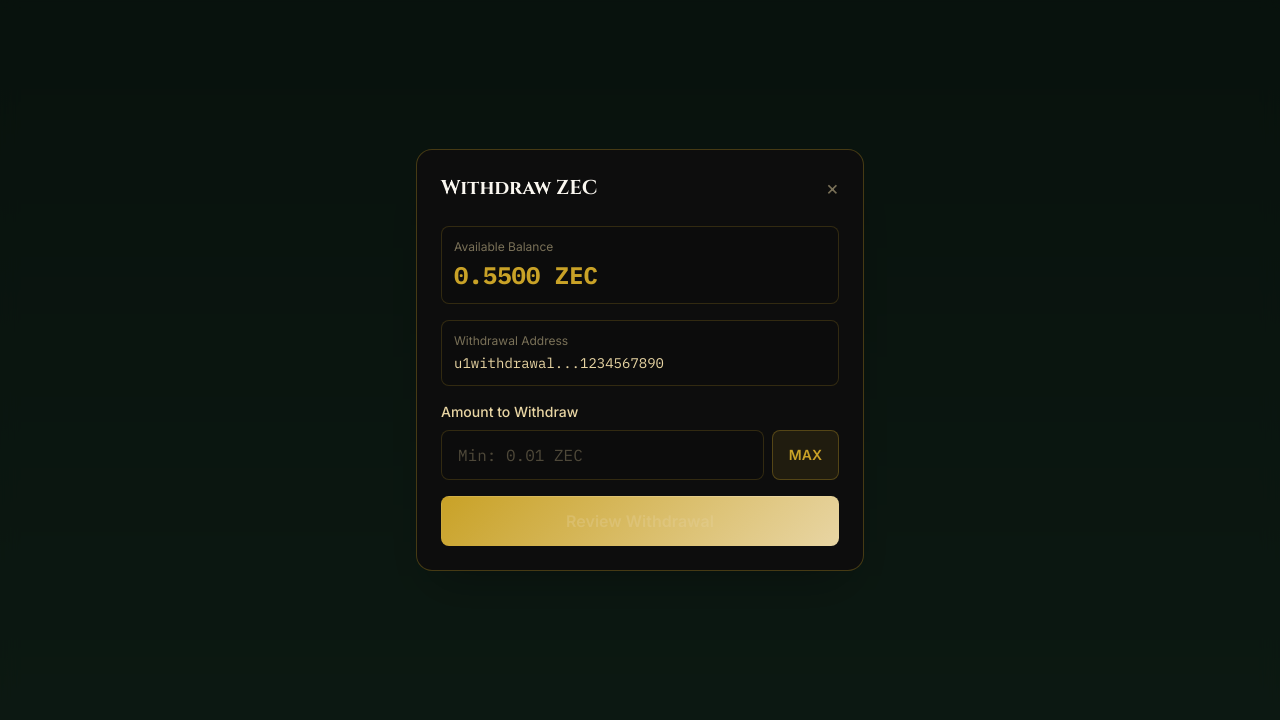
Test: WithdrawalModal › shows insufficient balance when amount plus fee exceeds available balance
The image size is (1280, 720).
Type "0.55" into the number field with placeholder "Min: 0.01 ZEC" at (602, 455), box x1=441 y1=430 x2=764 y2=480
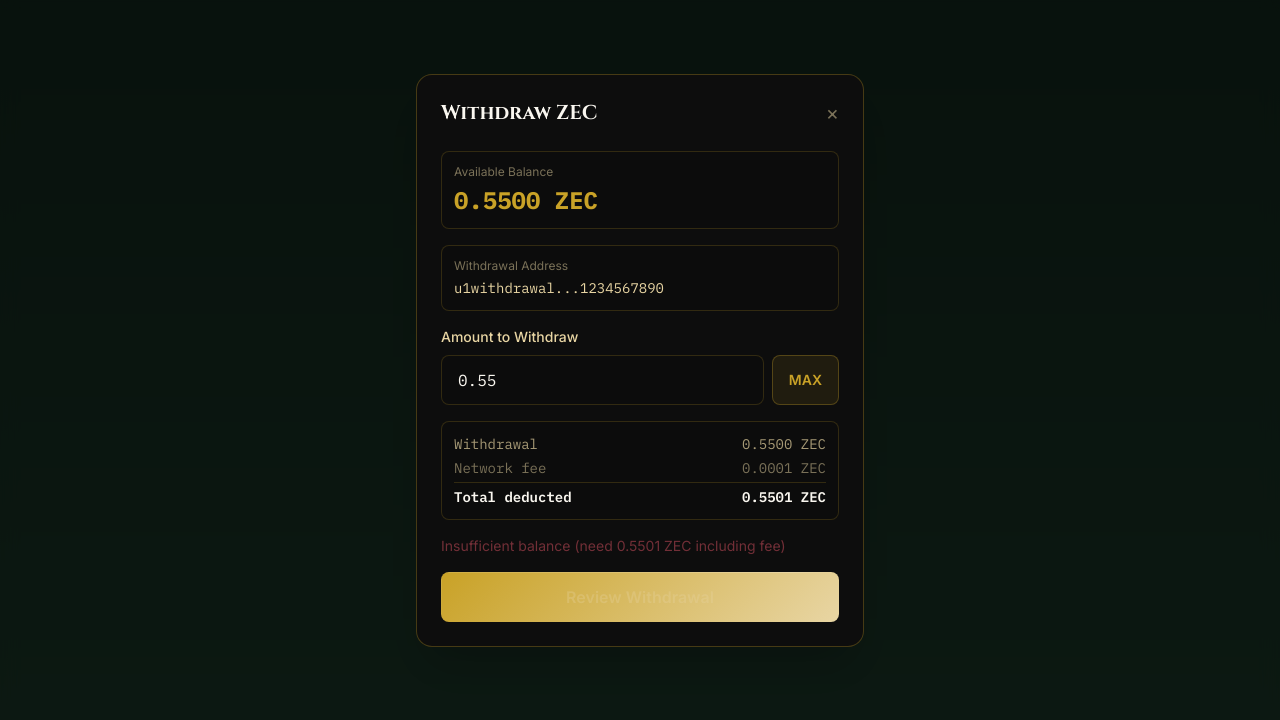
Expected: the button "Review Withdrawal" is disabled, x1=441 y1=572 x2=839 y2=622
Now the text "Insufficient balance (need 0.5501 ZEC including fee)" is shown, box x1=441 y1=536 x2=839 y2=556
